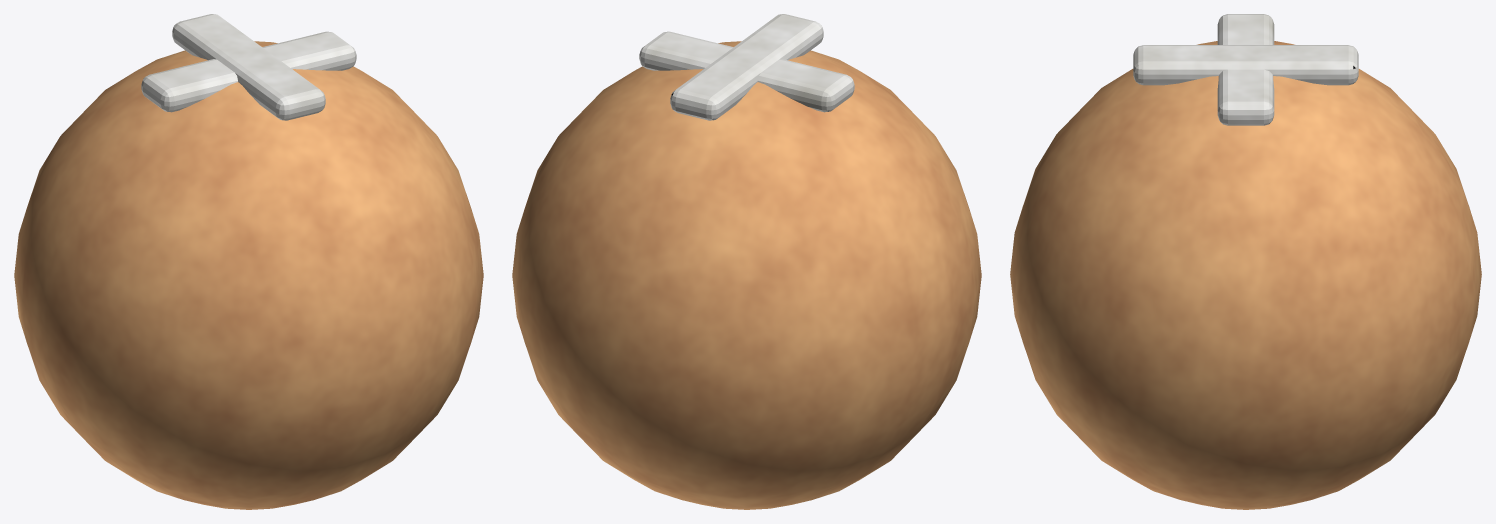
Rendered from positron.glb.
The picture shows the model from 3 angles, left to right: view 1: azimuth 30°, elevation 25°; view 2: azimuth 150°, elevation 25°; view 3: azimuth 270°, elevation 25°; orthographic projection.
Visible parts, largest first — view 1: positron_textured_mesh; view 2: positron_textured_mesh; view 3: positron_textured_mesh.
Part boxes in pixels (<box>): positron_textured_mesh: <box>14,14,483,509</box>; positron_textured_mesh: <box>512,14,981,509</box>; positron_textured_mesh: <box>1010,14,1481,509</box>.
Bounding box in the file's own units: 0.92 × 0.935 × 0.92.
Materials: 1 (1 with a texture image).
